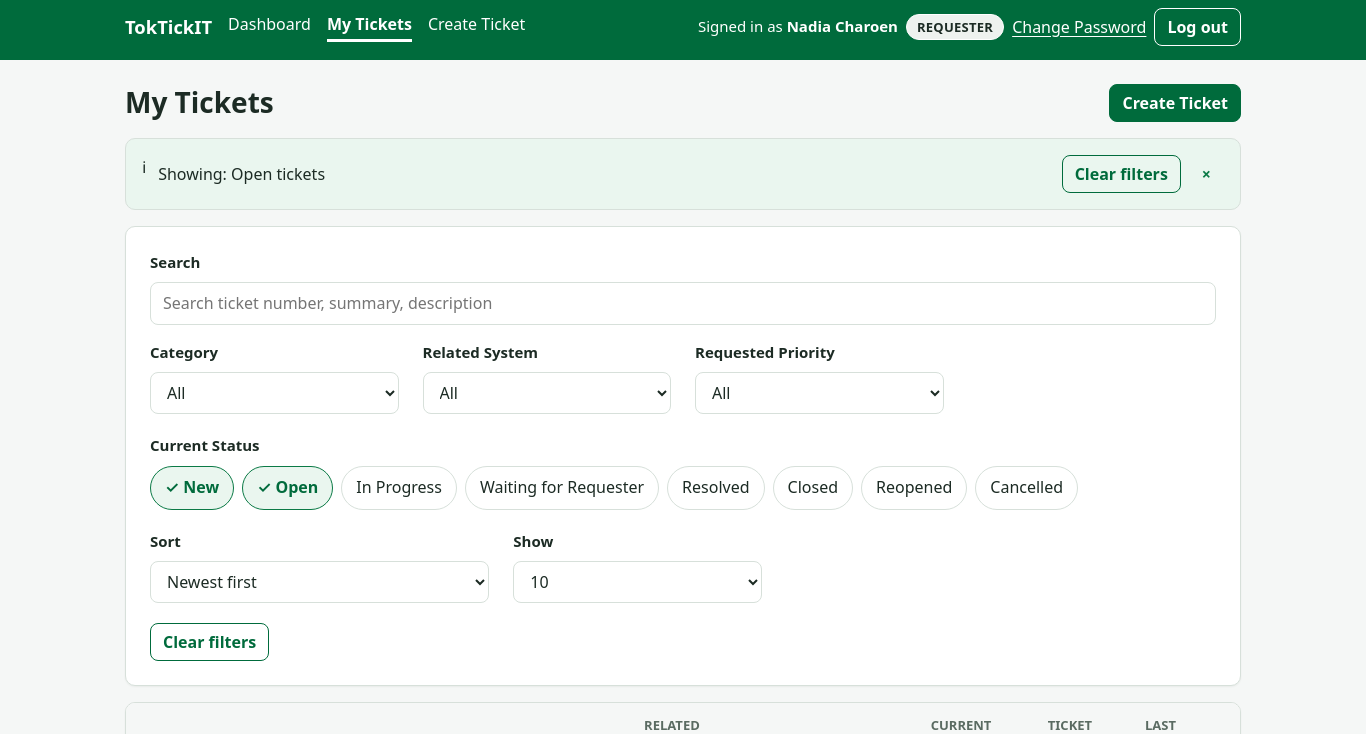
Scenario: UI-30 drill-down destinations open with their filters applied and visible (AC-37, FR-23) › My Tickets: repeated status params become pressed chips, the request carries them, and Clear filters resets
Click the button "Clear filters" in the row of "Open tickets" at (1121, 174), box 1062,155 -> 1181,193
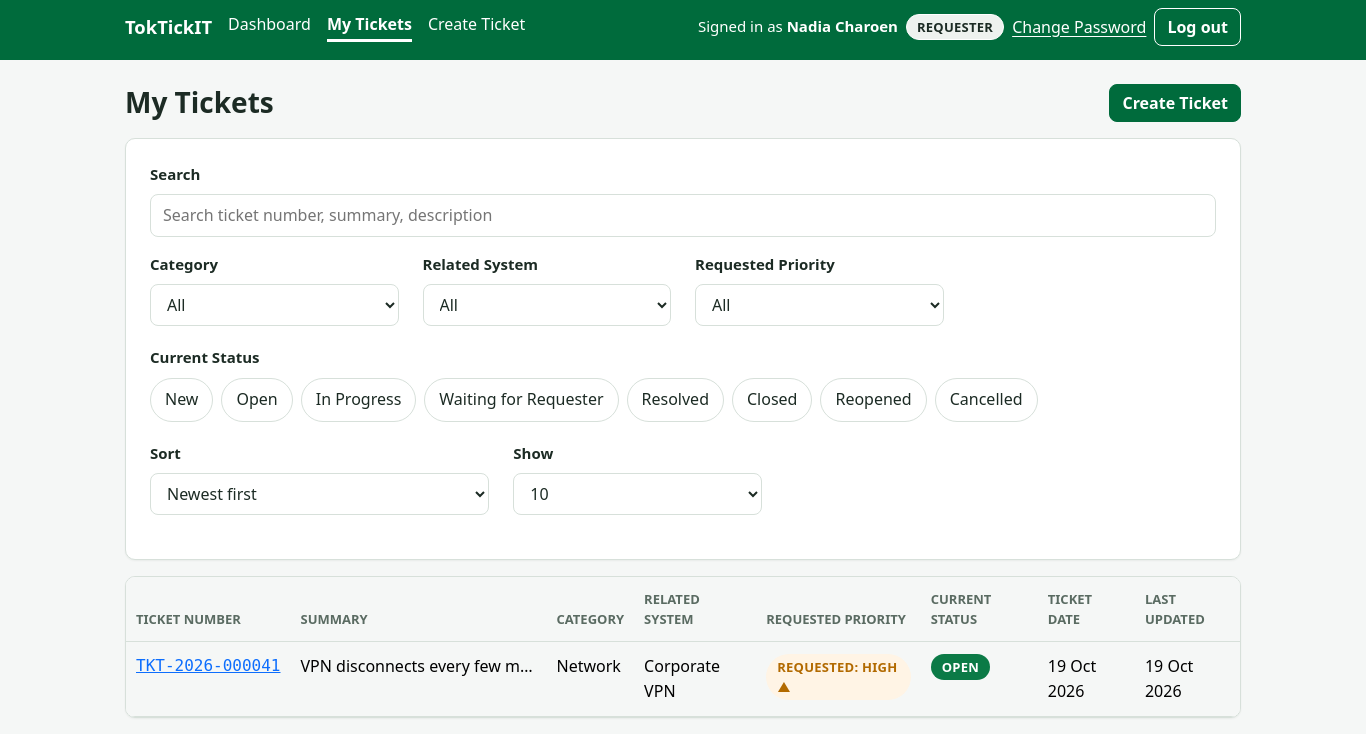
Now the text "Showing: Open tickets" is gone
